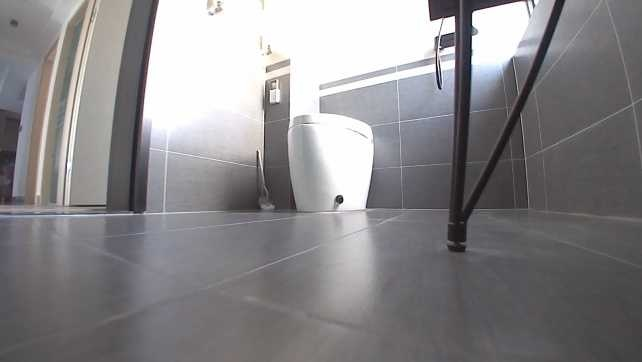door_sill: (0, 201, 137, 221)
toilet: (275, 110, 378, 213)
